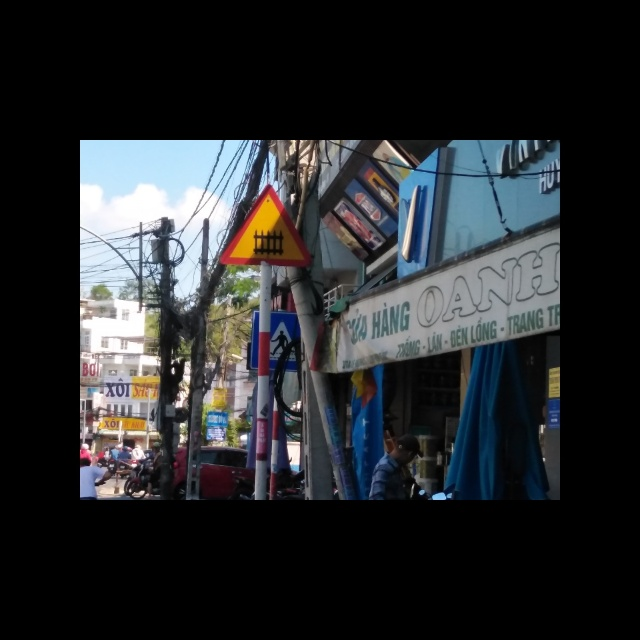Giao nhau với đường sắt có rào chắn: (217, 185, 310, 267)
